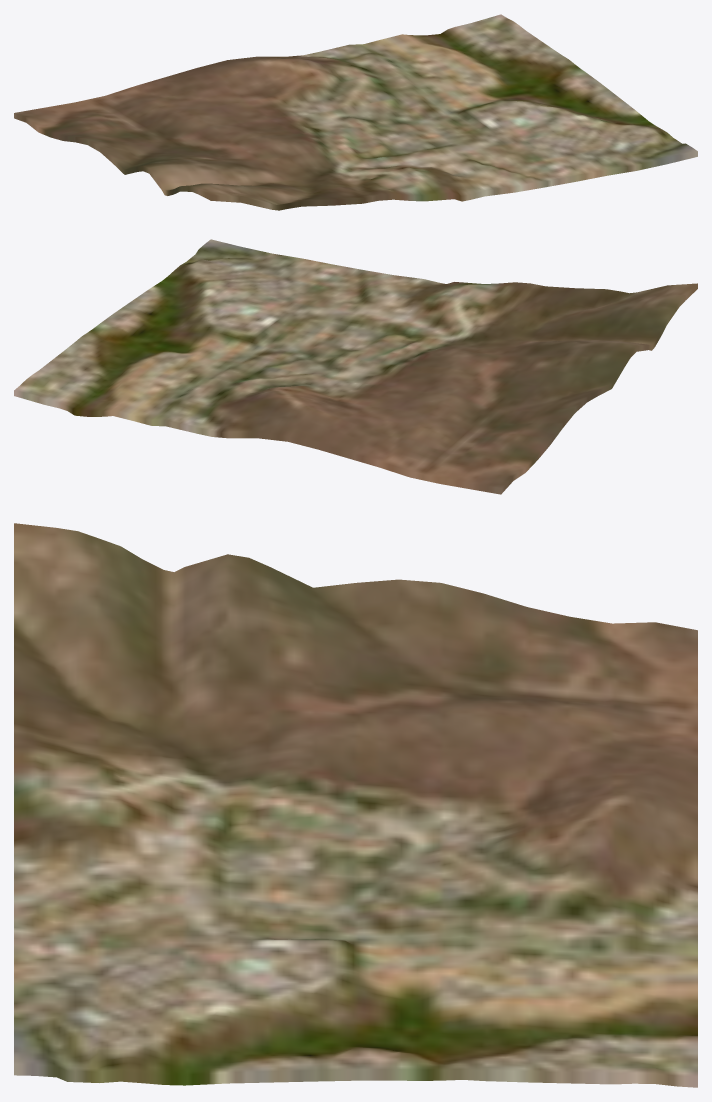
File: terrain_r1_c6_lod2.glb
3 renders of one model, top to bottom at view 1: azimuth 30°, elevation 25°; view 2: azimuth 150°, elevation 25°; view 3: azimuth 270°, elevation 25°, orthographic. The views are drawn at different scales.
Parts seen in each view (by area): view 1: terrain_r1_c6_lod2; view 2: terrain_r1_c6_lod2; view 3: terrain_r1_c6_lod2.
Part boxes in pixels (left/top/right/bottom): terrain_r1_c6_lod2: left=14, top=14, right=697, bottom=210; terrain_r1_c6_lod2: left=14, top=239, right=697, bottom=494; terrain_r1_c6_lod2: left=14, top=523, right=697, bottom=1087.
Size of the model in its own units: 1125 by 203 by 787.
1 material, 1 textured.
